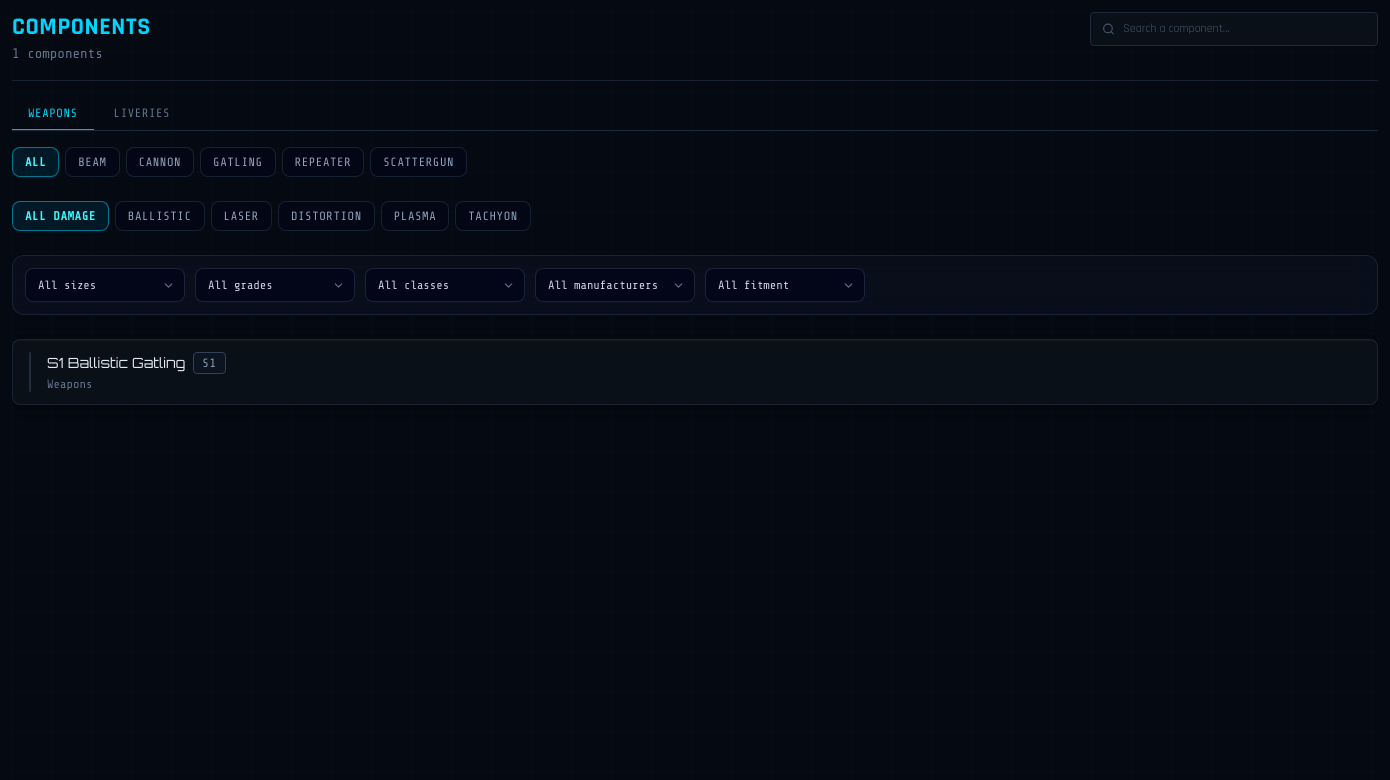
Scenario: ComponentsPage › adapte les filtres visibles pour les liveries
What coordinates should you click on to do the following:
click the button "Liveries"
I would click on:
 (142, 114)
Its box is [98,97,186,131].
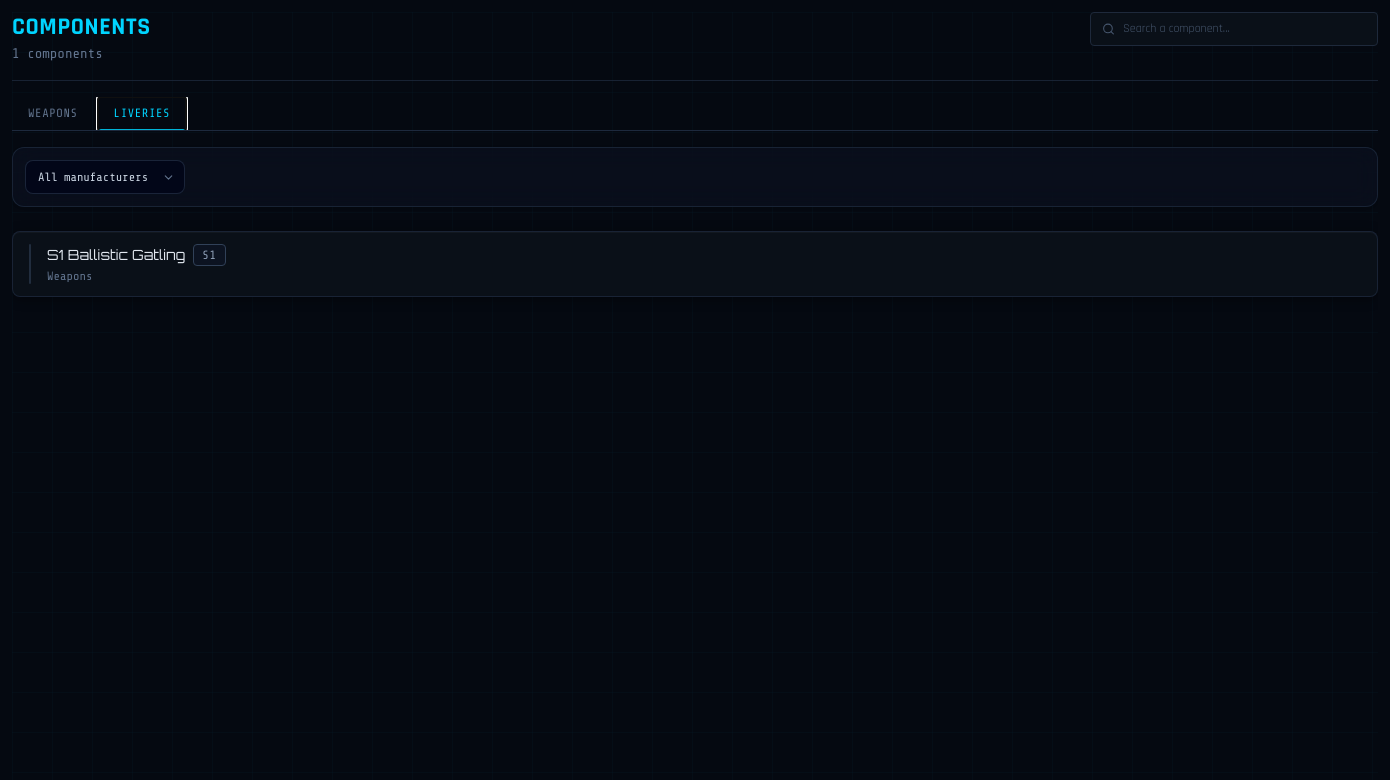
Expected: the text "All grades" is not shown
Now the button "All damage" is gone
